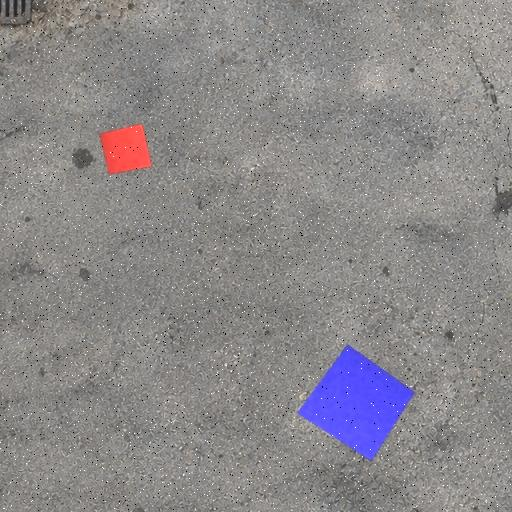BLUE_SQUARE: (296, 343, 415, 462)
RED_SQUARE: (98, 123, 153, 176)
